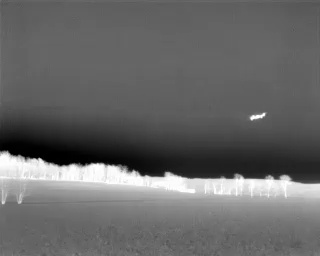DRONE: (246, 107, 270, 126)
